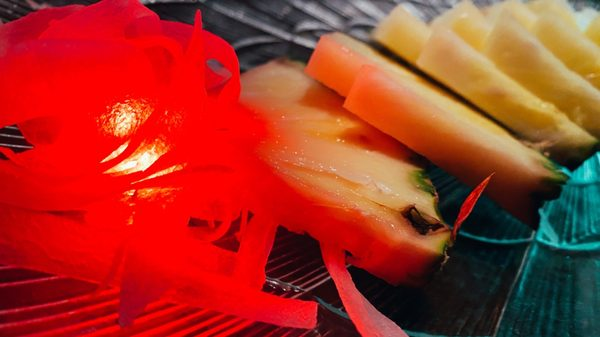burger: (302, 31, 563, 226), (368, 1, 600, 168)
pizza: (303, 31, 563, 225)
